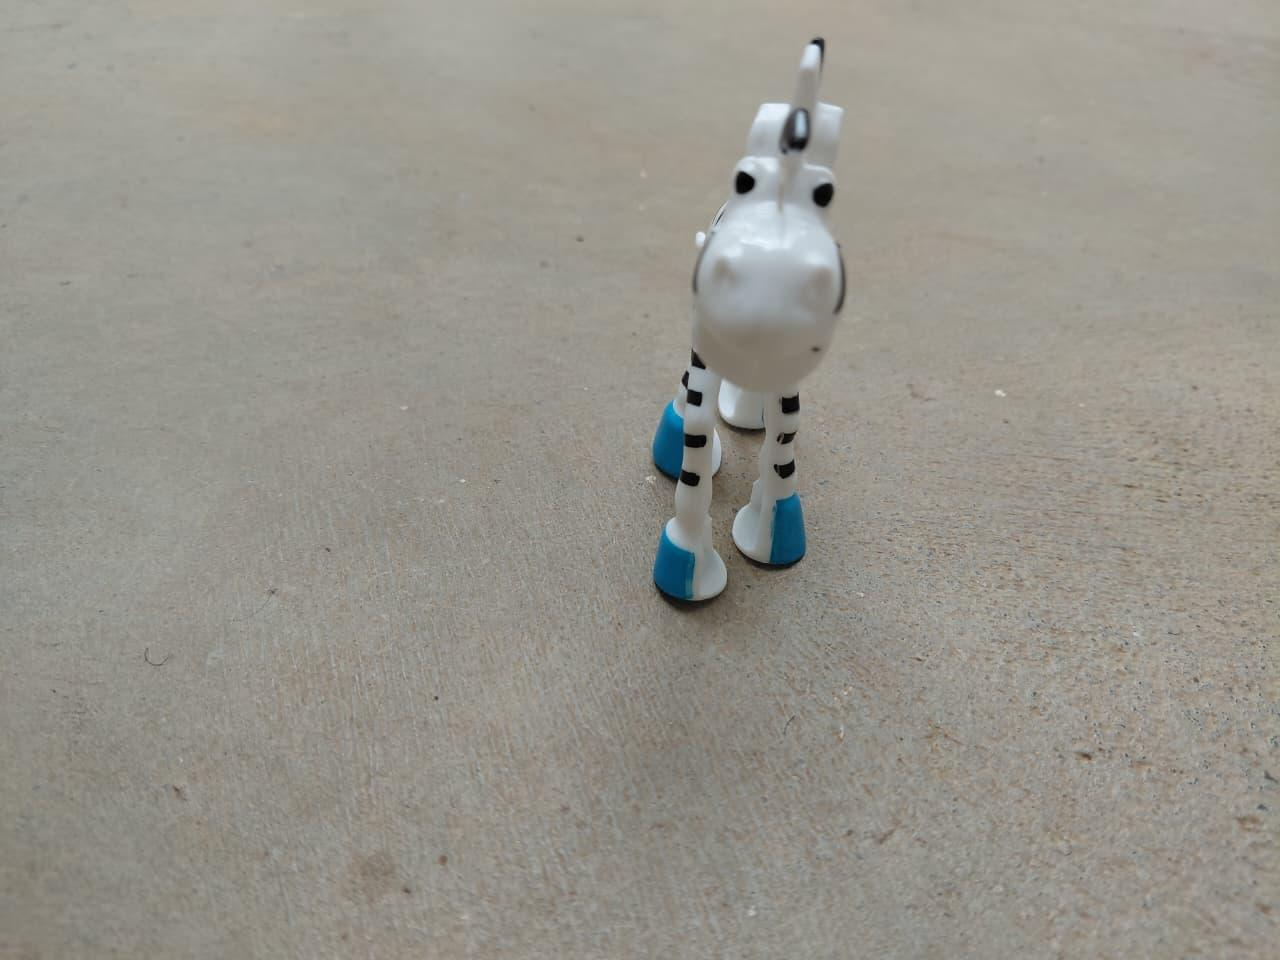zebra: (646, 36, 856, 612)
